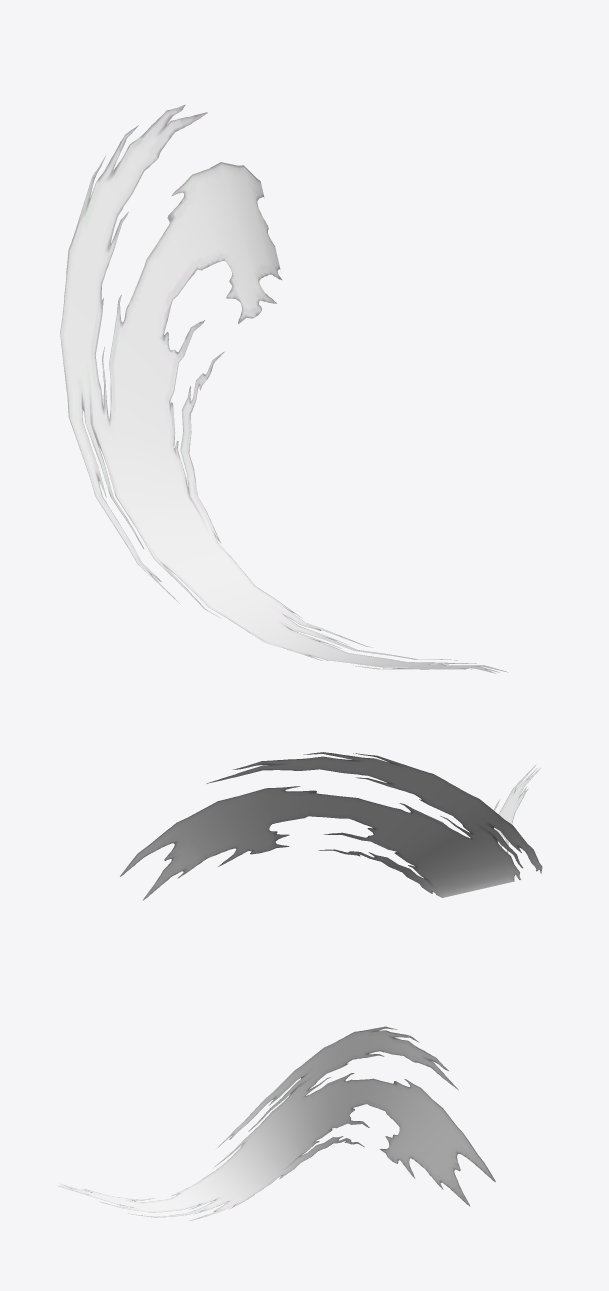
File: qiliu_1.FBX
The picture shows the model from 3 angles, top to bottom: view 1: azimuth 30°, elevation 25°; view 2: azimuth 150°, elevation 25°; view 3: azimuth 270°, elevation 25°; orthographic projection. The views are drawn at different scales.
Parts seen in each view (by area): view 1: qiliu_1; view 2: qiliu_1; view 3: qiliu_1.
Part boxes in pixels (x1=…): qiliu_1: x1=60, y1=104, x2=507, y2=673; qiliu_1: x1=120, y1=752, x2=542, y2=900; qiliu_1: x1=57, y1=1026, x2=495, y2=1220.
Size of the model in its own units: 104 by 87.92 by 211.
